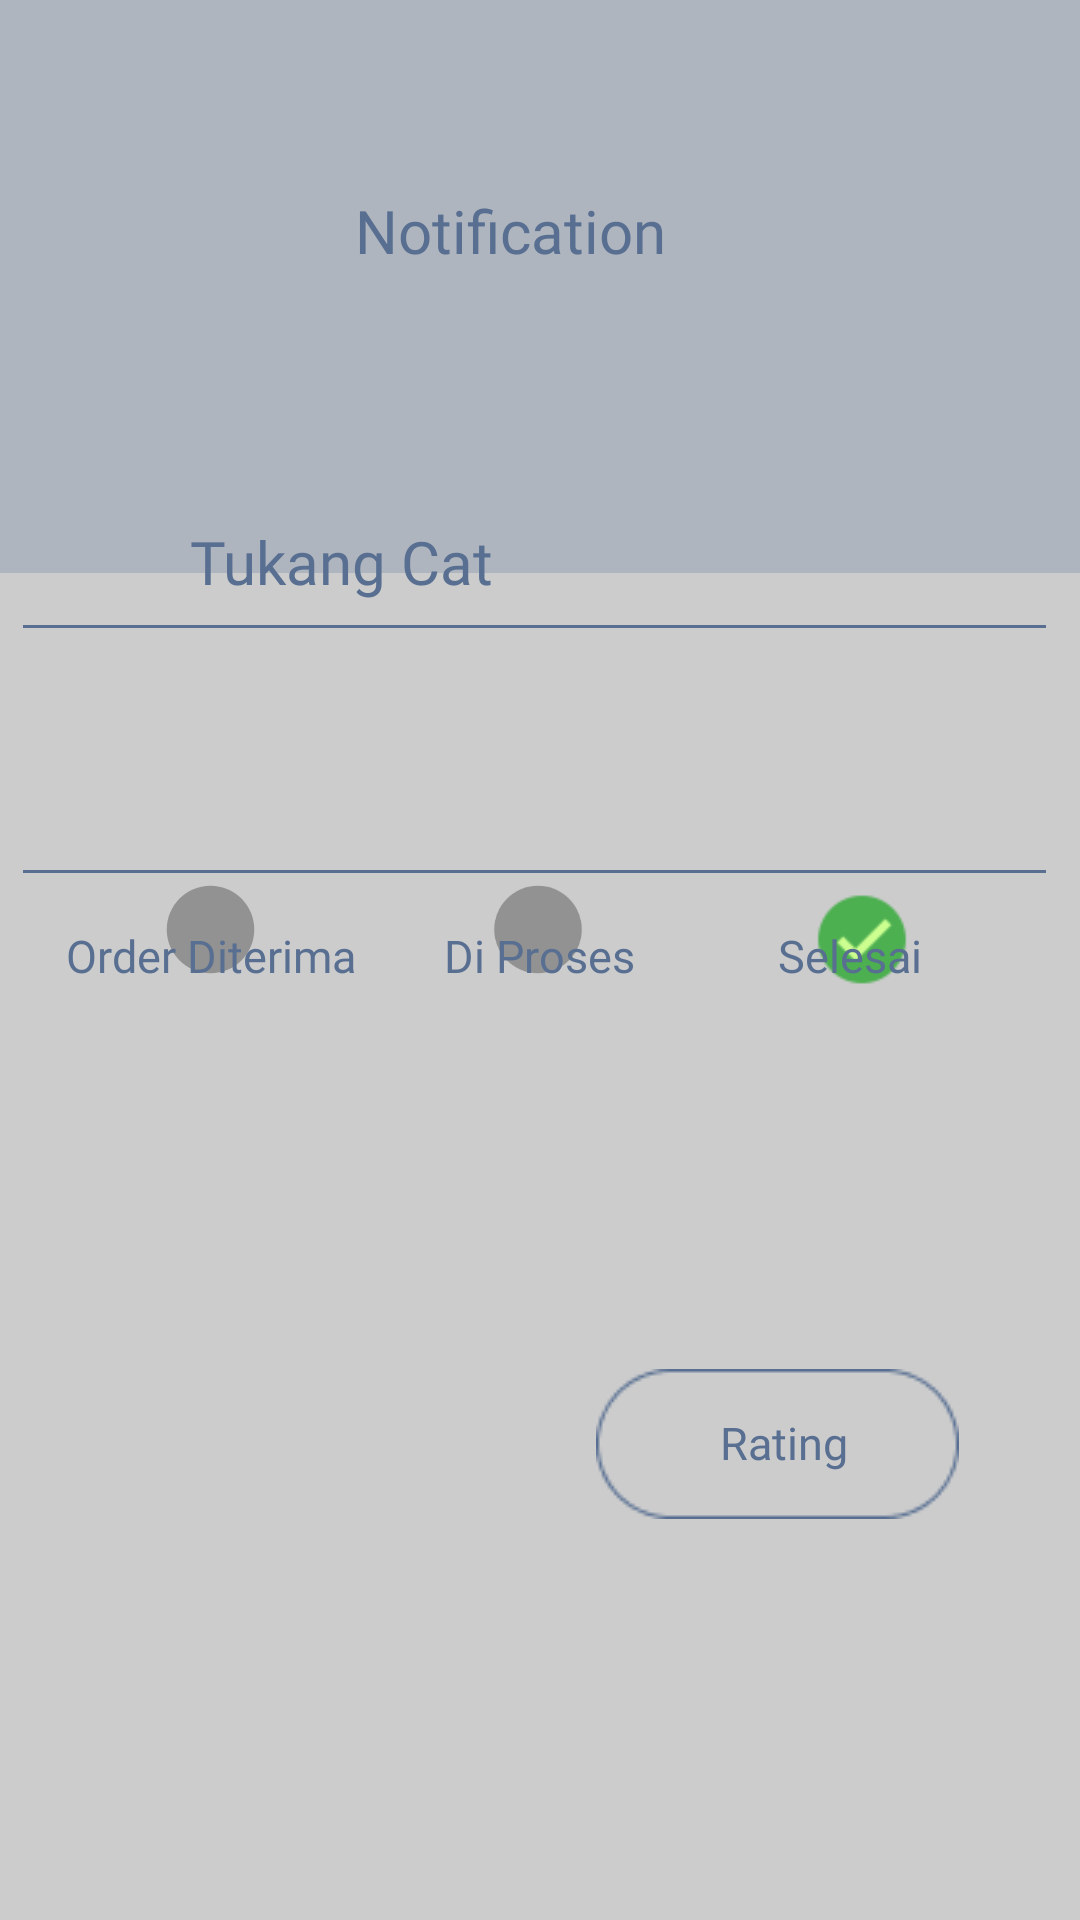

Where icons sit on this 1080 × 1920 app screen, as (x1, y1, x2, y2):
oke: (807, 895, 919, 984)
